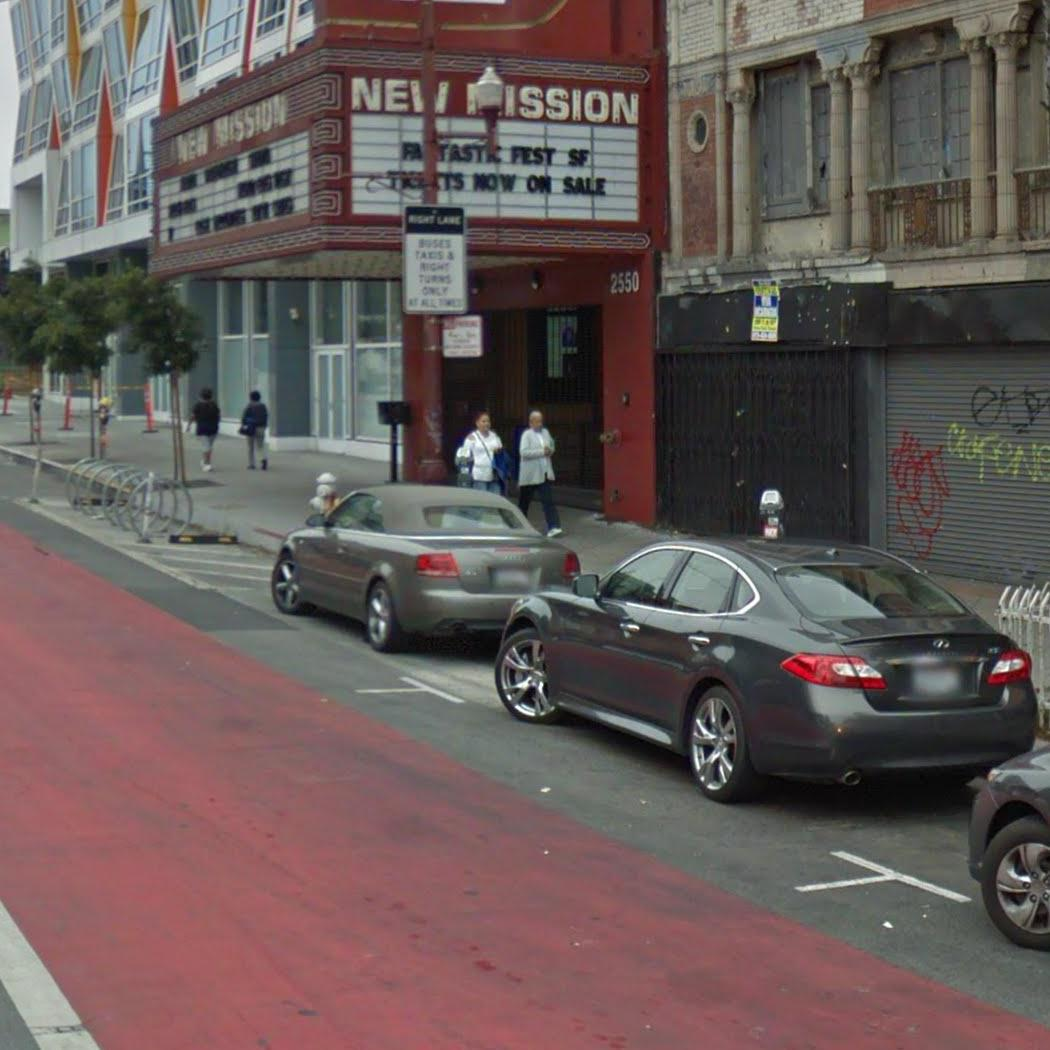No Parking: (439, 311, 484, 360)
